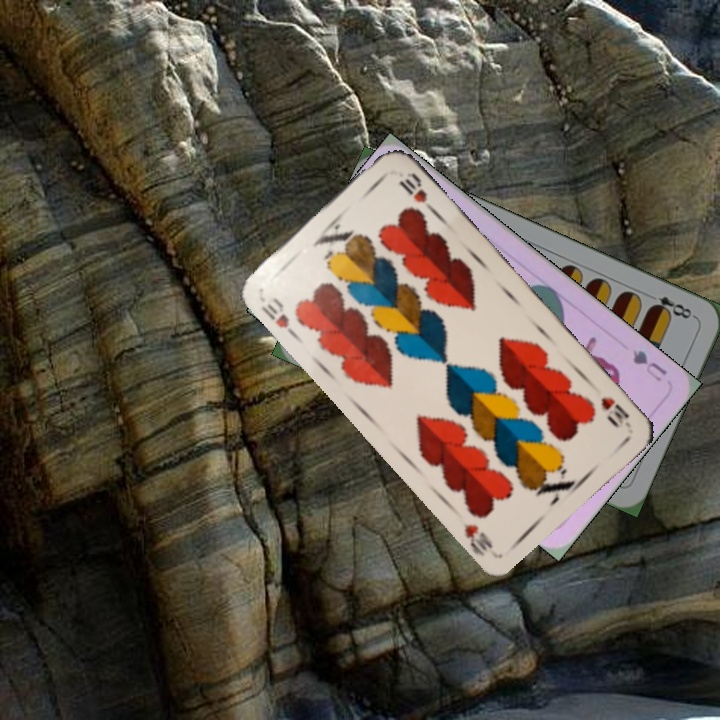E8: (645, 292, 698, 322)
GU: (628, 346, 670, 385)
H10: (257, 293, 300, 341), (596, 393, 634, 431)
